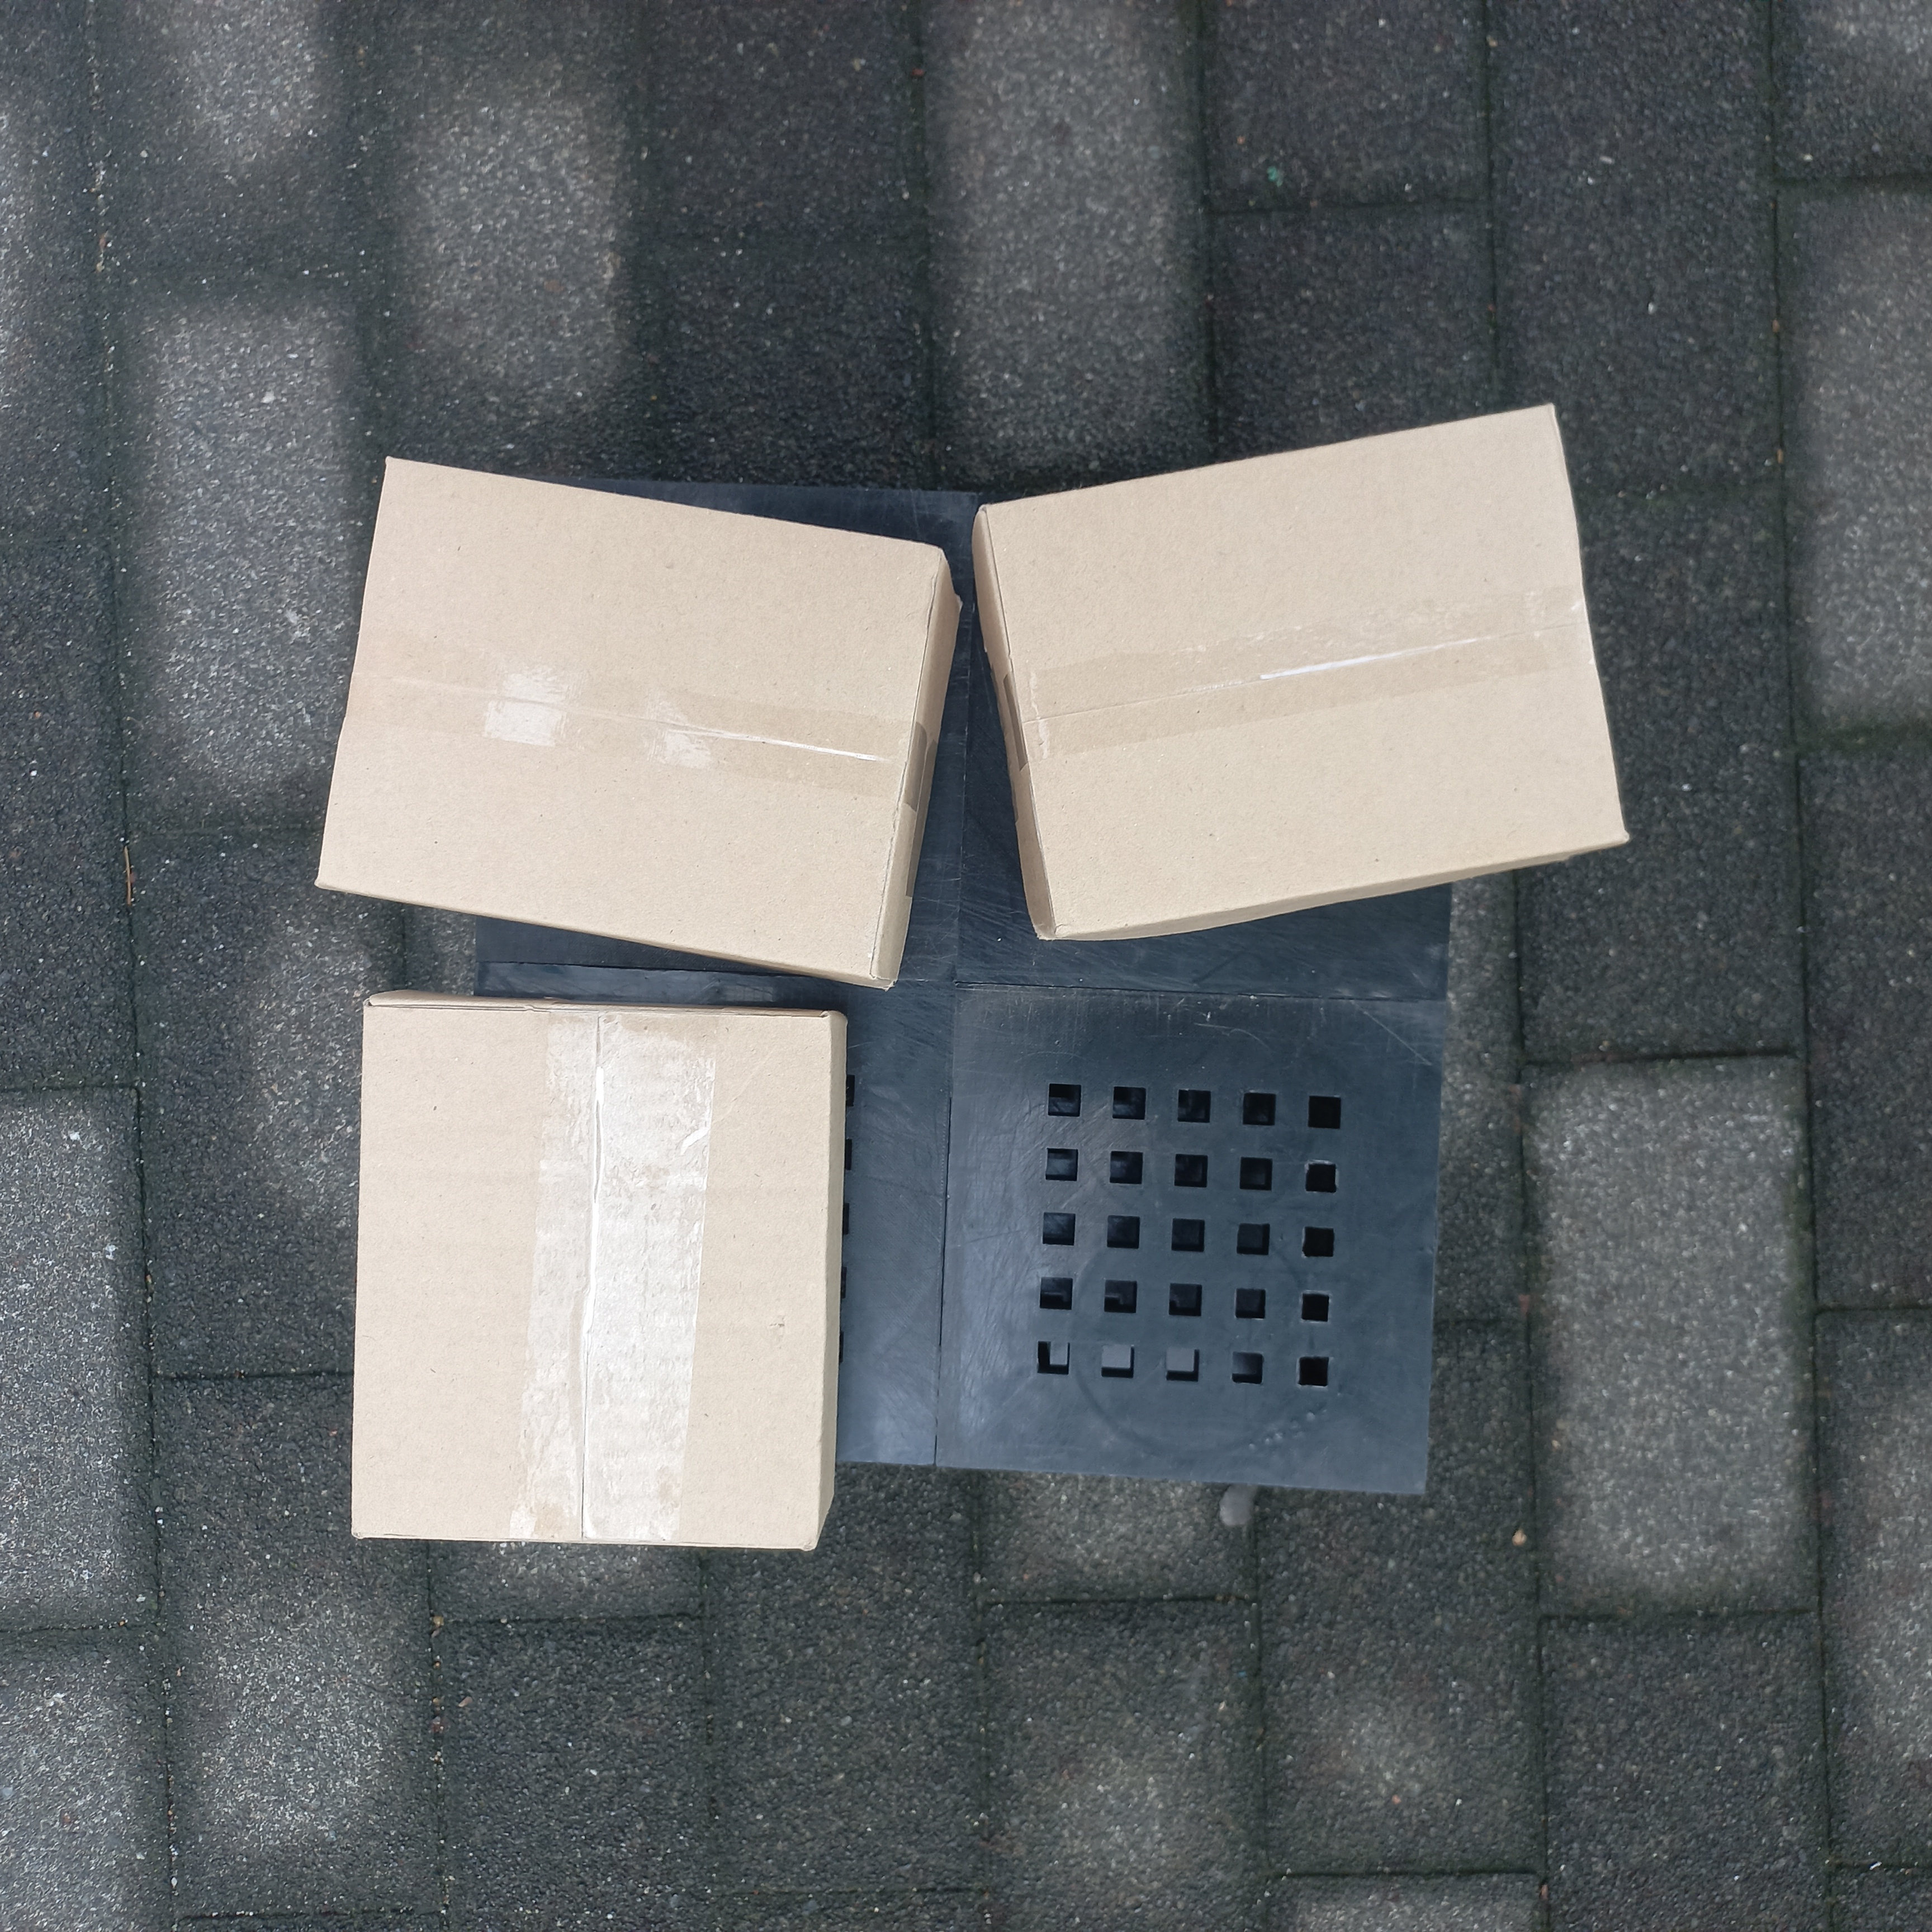box: (971, 402, 1633, 950), (311, 449, 948, 987), (349, 994, 844, 1553)
